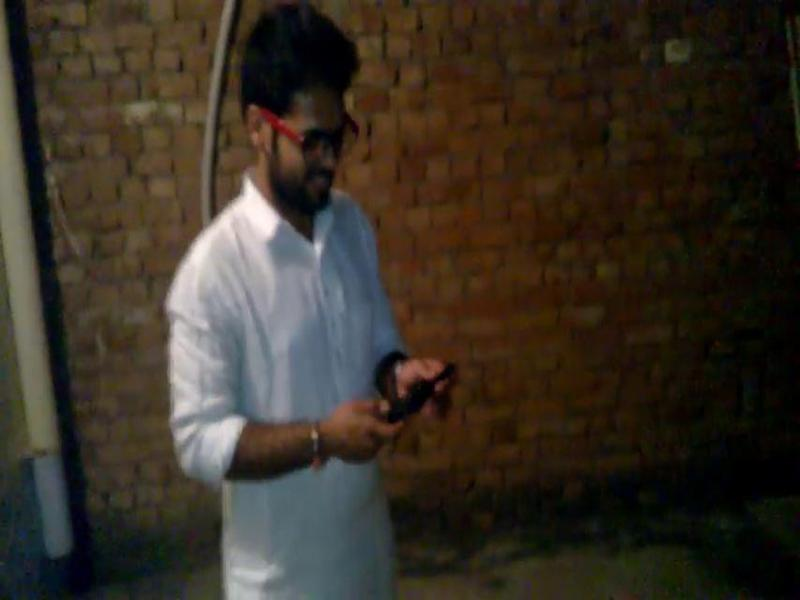Revolver: (362, 349, 464, 453)
